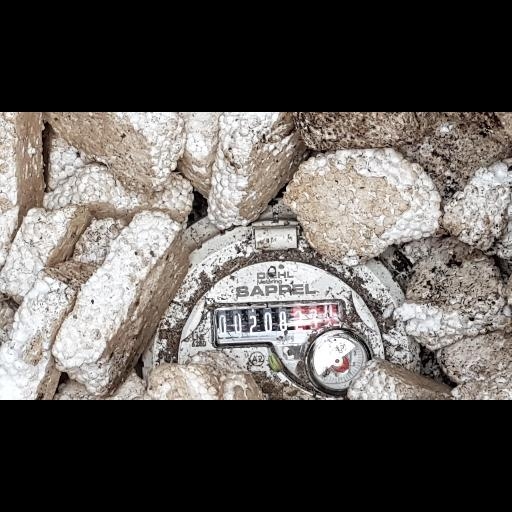0: (231, 308, 247, 338), (262, 308, 277, 337), (217, 309, 231, 339), (323, 305, 338, 332)
2: (247, 308, 262, 337), (292, 306, 306, 335)
3: (307, 305, 323, 334)
8: (277, 307, 291, 335)
border_water_meter_number: (210, 298, 347, 348)
